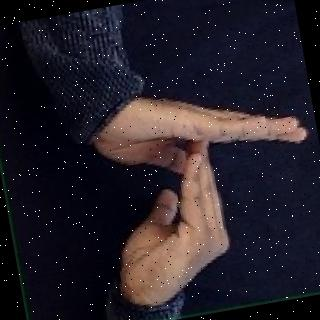Z: (91, 91, 320, 294)
